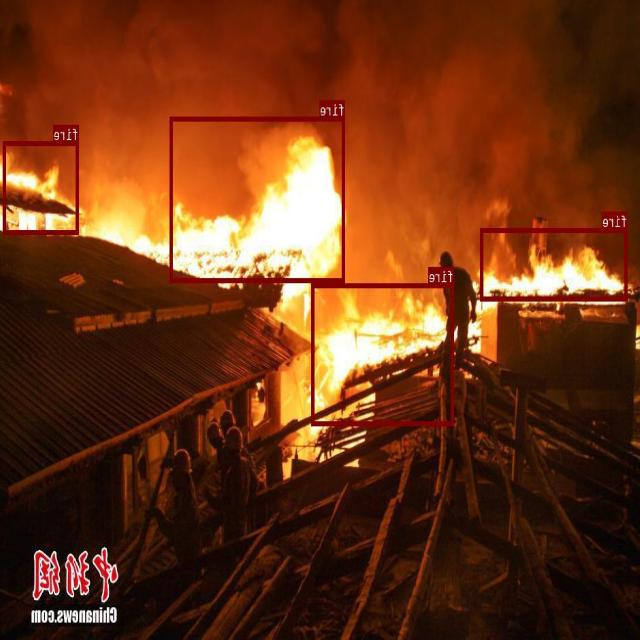fire: (170, 116, 346, 282), (313, 283, 454, 425), (481, 227, 628, 300), (4, 141, 79, 233)
